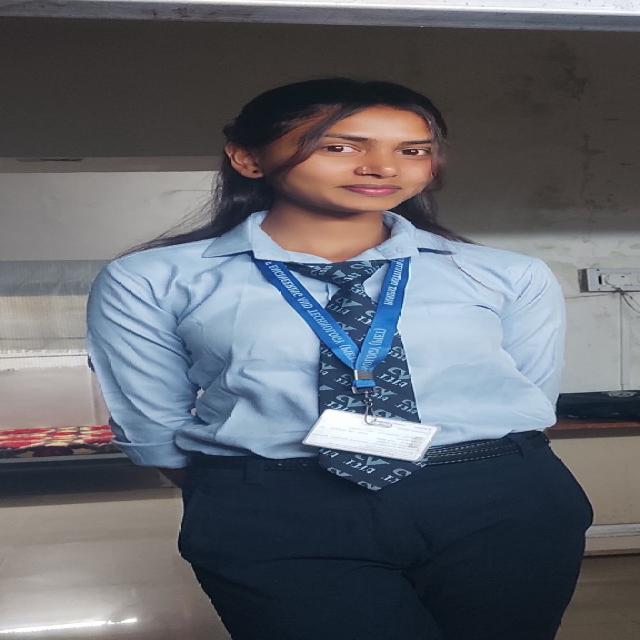Tie: (251, 253, 430, 491)
uniform: (83, 209, 594, 639)
